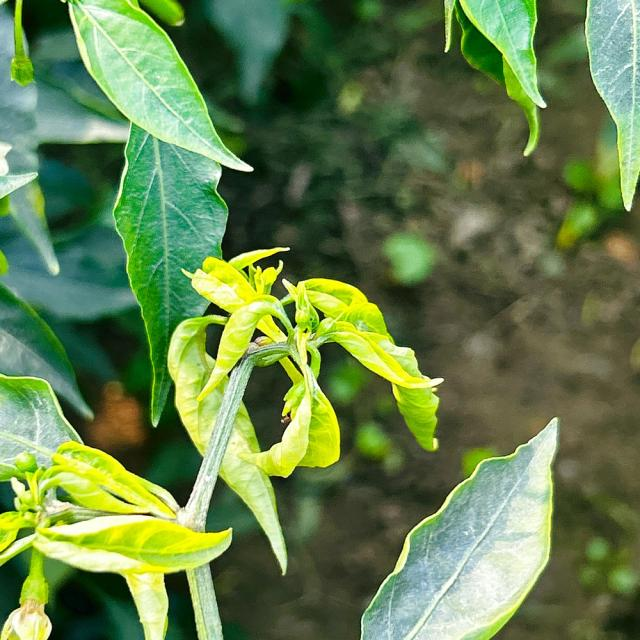Chilli_Leaf_Curl: (1, 0, 561, 638), (165, 244, 444, 576), (65, 0, 254, 427), (0, 373, 234, 638), (359, 414, 561, 638), (112, 118, 230, 428), (65, 0, 254, 173), (166, 312, 289, 575), (442, 0, 547, 157), (0, 281, 95, 423), (32, 513, 234, 576), (583, 0, 639, 212), (0, 372, 84, 480)
